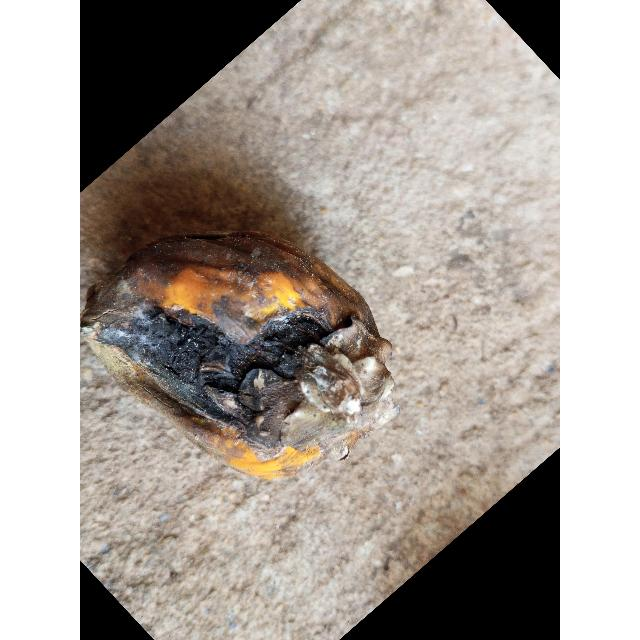damaged: (80, 237, 394, 457)
